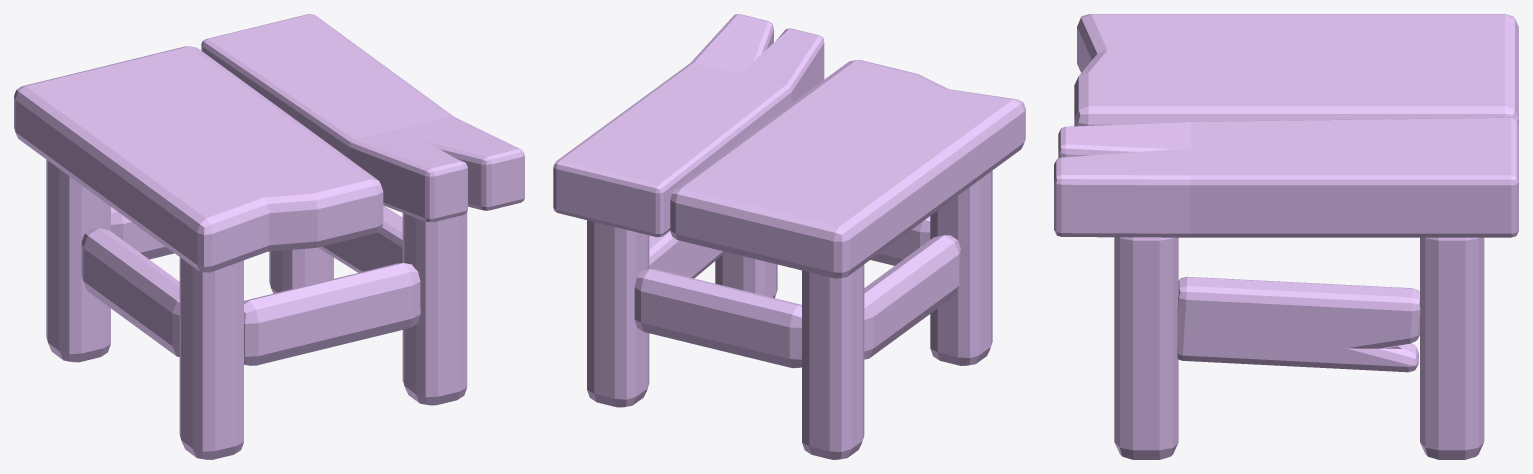
File: stoolSmall.glb
3 renders of one model, left to right at view 1: azimuth 30°, elevation 25°; view 2: azimuth 150°, elevation 25°; view 3: azimuth 270°, elevation 25°, orthographic. The views are drawn at different scales.
Visible parts, largest first — view 1: stoolSmall; view 2: stoolSmall; view 3: stoolSmall.
Boxes of the visible parts, x1,y1,x2,y2 form: stoolSmall: (14,14,524,459); stoolSmall: (553,14,1025,459); stoolSmall: (1054,14,1518,459).
Size of the model in its own units: 0.3493 by 0.2813 by 0.3896.
